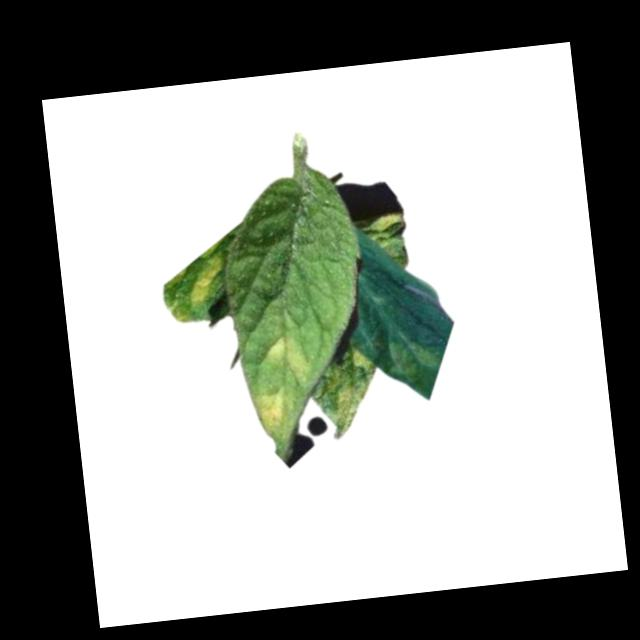Leaf_Mold: (320, 342, 382, 437), (162, 245, 229, 324), (381, 334, 441, 386), (246, 381, 295, 441), (260, 335, 308, 385), (372, 212, 407, 242)
